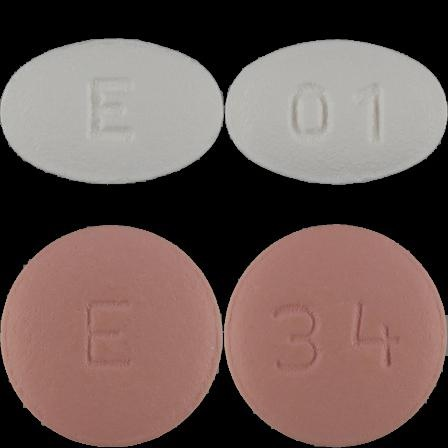33261-986: (0, 0, 224, 224)
